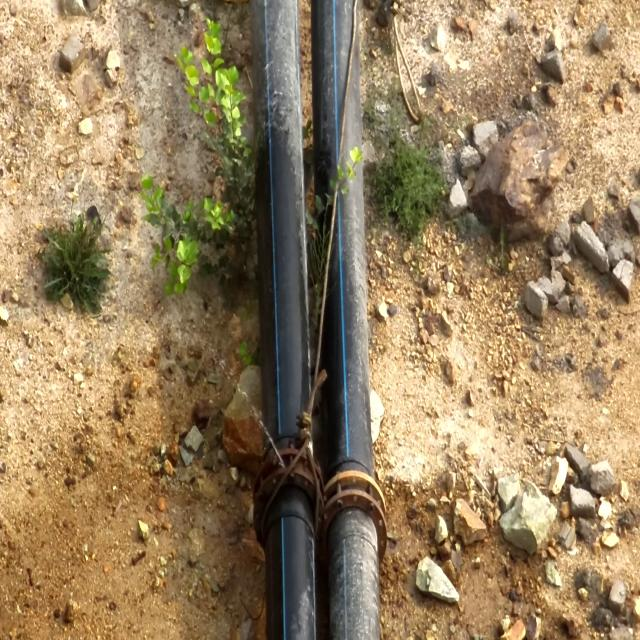leak: (178, 332, 295, 485)
